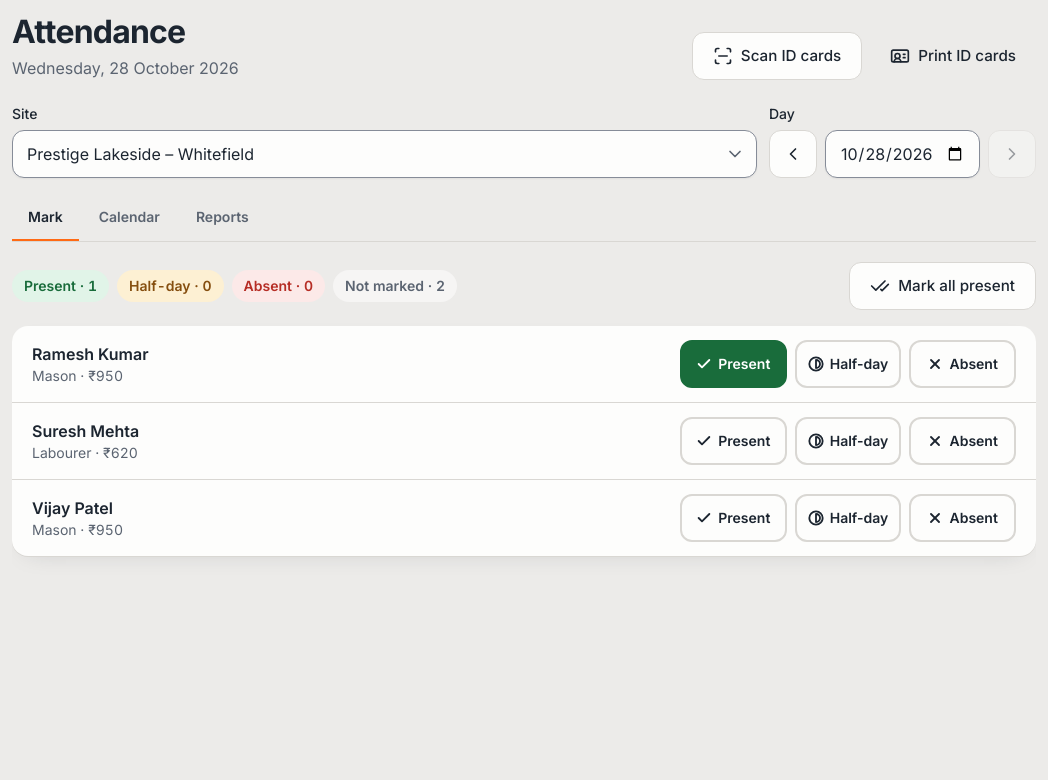
it: AttendancePage › mark all present and undo
Expected: the element "Ramesh Kumar" is shown, [12,326,1036,402]
Step 1. Click the button "Mark all present" → coordinates (943, 286), box [849,262,1036,310]
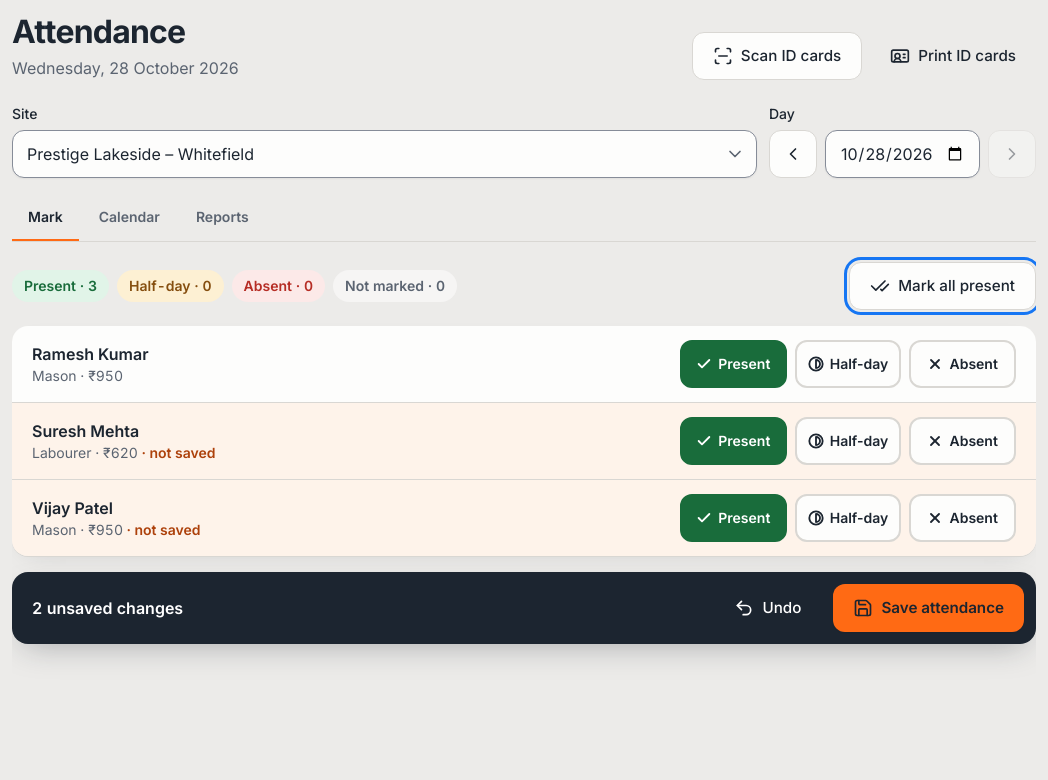
Expected: the text "2 unsaved changes" is shown, [32,598,183,618]
Step 2. Click the button "Undo" → coordinates (768, 608), box [714,584,822,632]
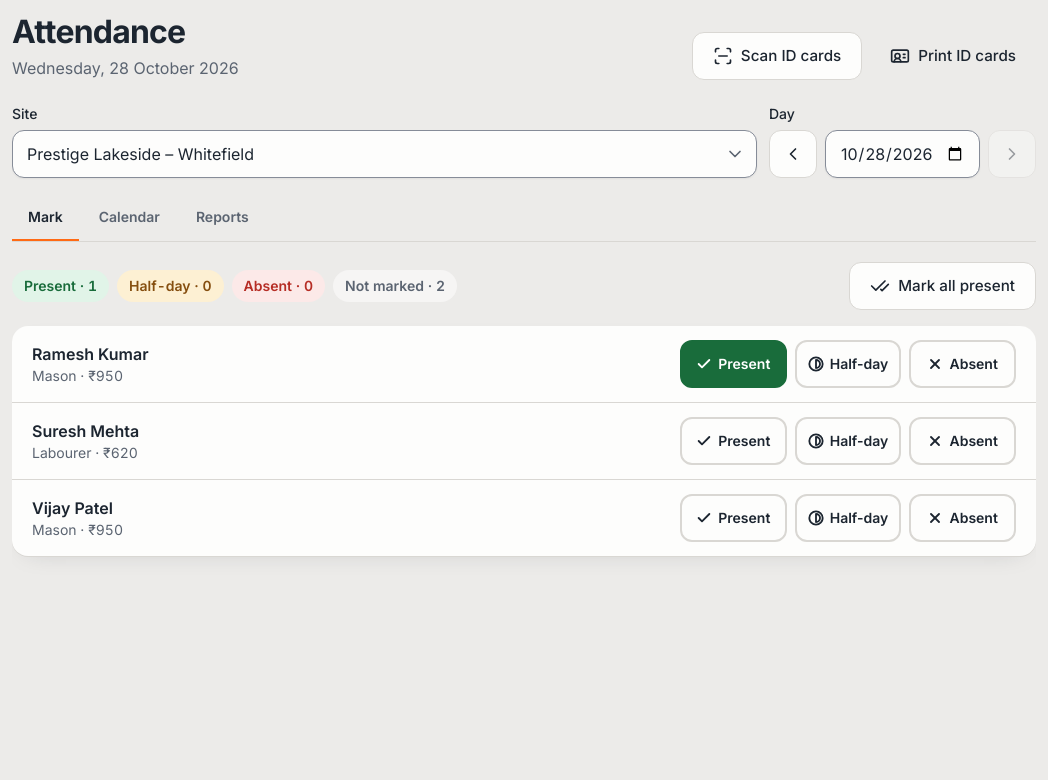
Expected: the text "unsaved change" is gone
